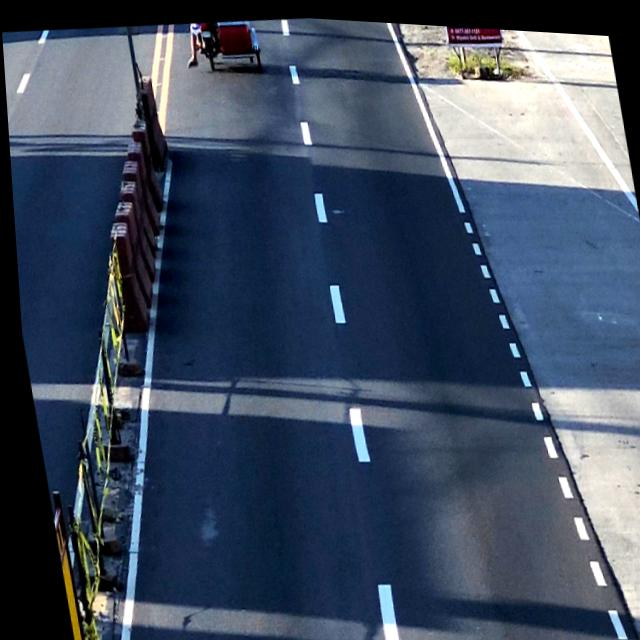Tricycle: (184, 13, 269, 70)
